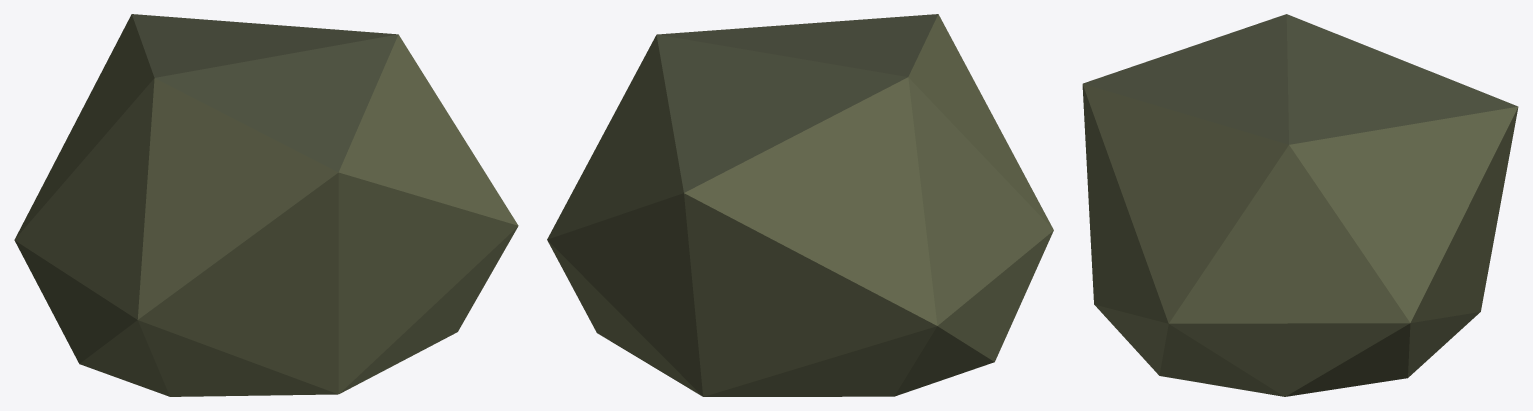
File: TB_D_Env_GrassE_C.FBX
3 views of the same model, side by side, from view 1: azimuth 30°, elevation 25°; view 2: azimuth 150°, elevation 25°; view 3: azimuth 270°, elevation 25° (orthographic). The views are drawn at different scales.
Visible parts, largest first — view 1: TB_D_Env_GrassE_C; view 2: TB_D_Env_GrassE_C; view 3: TB_D_Env_GrassE_C.
Part boxes in pixels (x1,y1,x2,y2): TB_D_Env_GrassE_C: (14, 14, 518, 396); TB_D_Env_GrassE_C: (547, 14, 1053, 396); TB_D_Env_GrassE_C: (1082, 14, 1518, 396).
Bounding box in the file's own units: 1.62 × 1.05 × 1.65.
